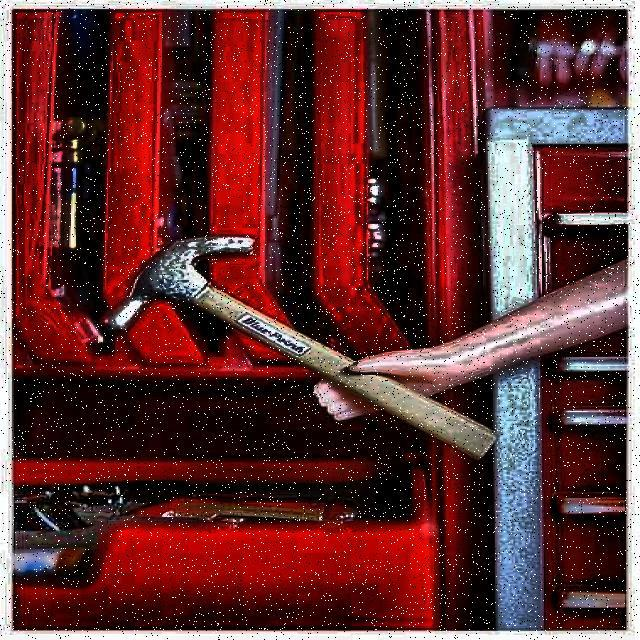hammer: (109, 236, 501, 458)
